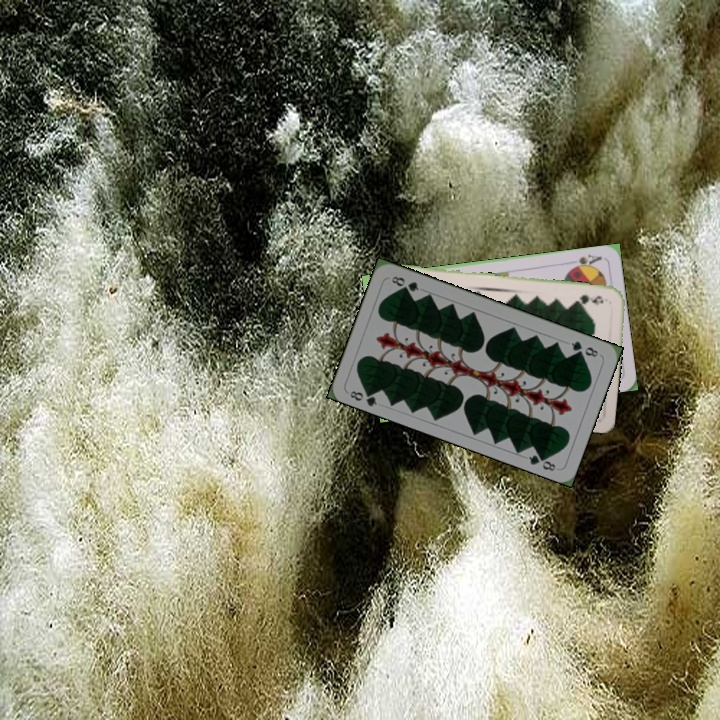G8: (346, 384, 380, 409), (567, 337, 601, 360)
G9: (571, 291, 606, 307)
SA: (566, 250, 604, 272)
